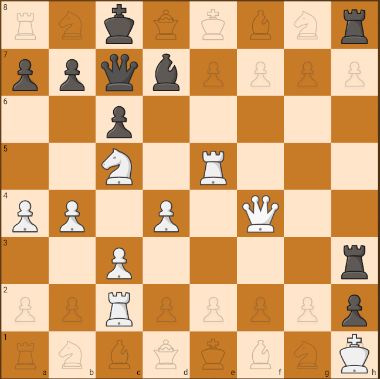bb: (146, 51, 187, 94)
bk: (96, 1, 142, 47)
bp: (3, 50, 47, 95), (334, 286, 377, 330), (101, 101, 138, 141), (54, 54, 89, 94)
bq: (98, 50, 140, 94)
br: (332, 240, 376, 282), (335, 3, 377, 46)
wk: (334, 332, 377, 376)
wn: (99, 145, 139, 187)
wp: (5, 194, 47, 234), (53, 194, 91, 234), (148, 195, 185, 235), (101, 245, 137, 281)
wq: (239, 192, 282, 234)
wr: (192, 146, 234, 188), (100, 287, 138, 329)
